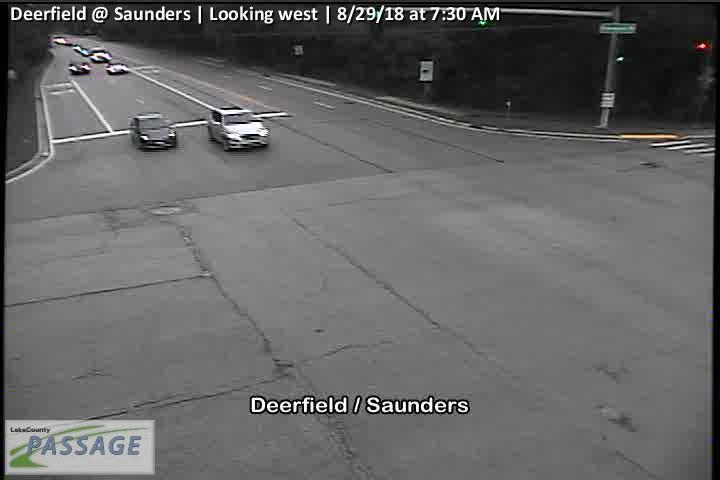SUV: (207, 106, 271, 151), (130, 112, 177, 151), (89, 48, 111, 63)
Sedan: (106, 62, 128, 74), (71, 63, 90, 74)
